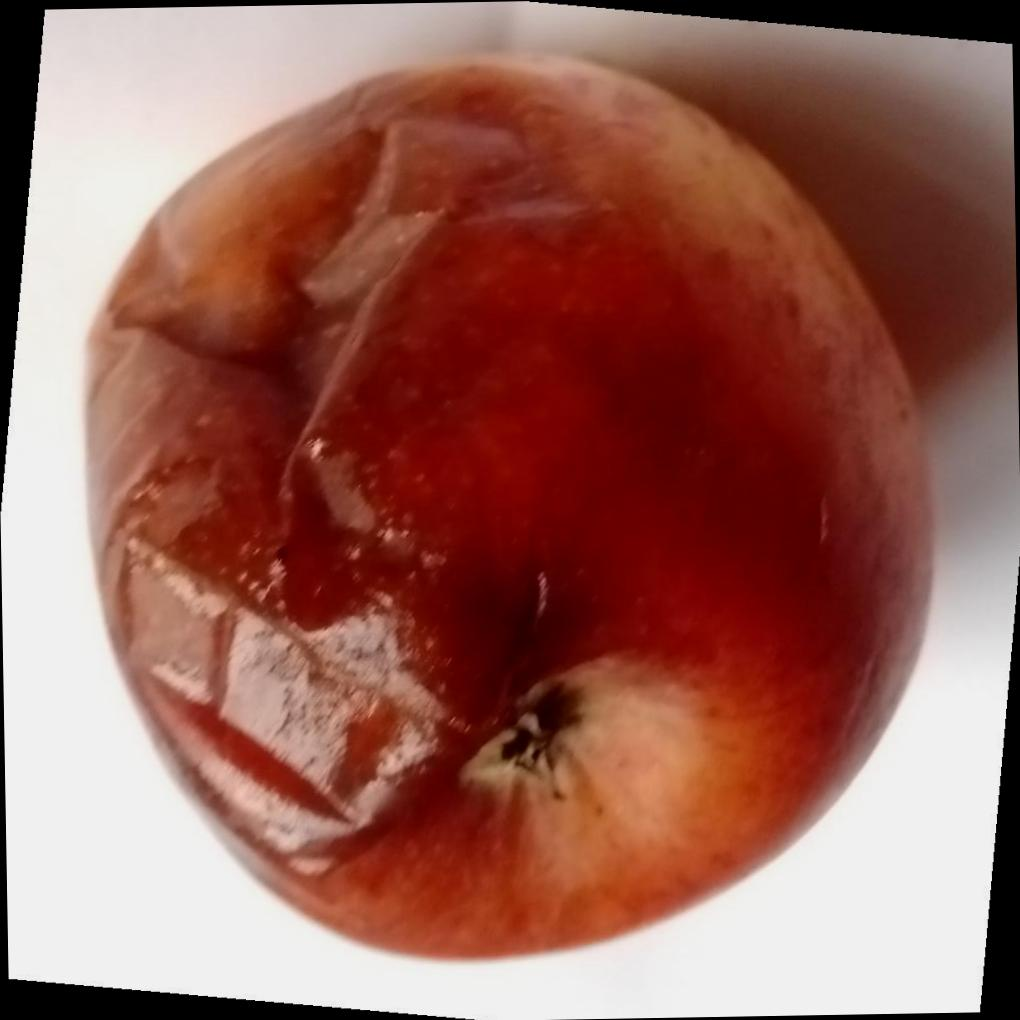FreshOrange: (83, 50, 937, 961)
